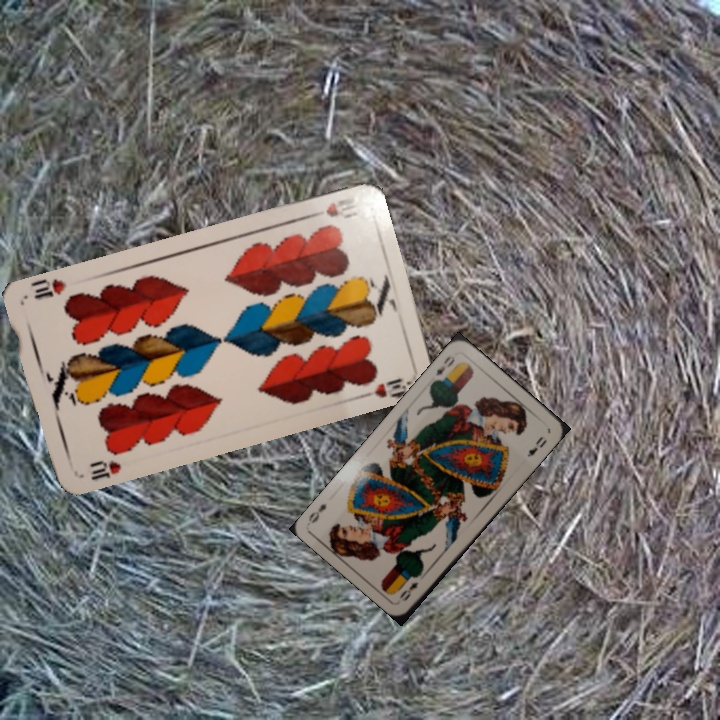EO: (430, 351, 457, 385), (395, 577, 421, 604)
H10: (304, 189, 362, 222), (86, 455, 124, 483)
